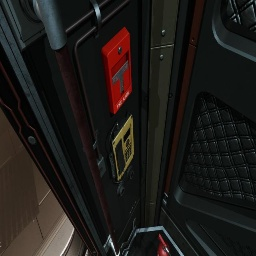EmergencyPhone ,: (109, 109, 134, 183)
FireAlarm ,: (101, 27, 132, 114)
FireExtinguisher ]: (156, 233, 172, 256)
